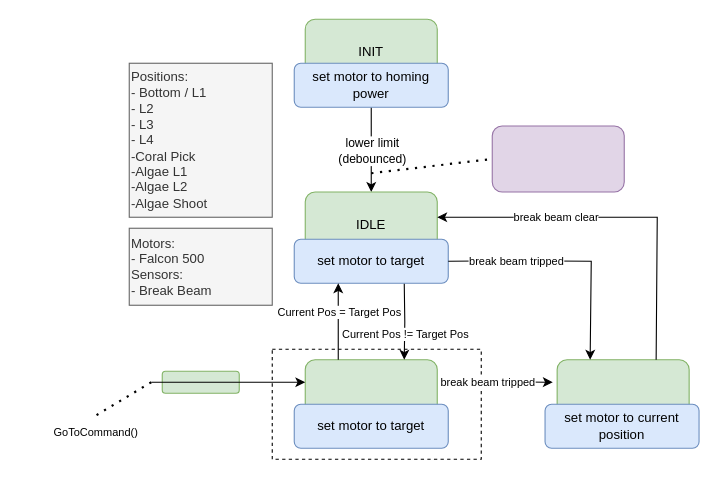
This 718x479 diagram has some shape labels left out. The shapes that lost their labels are listed below. From the top down, each one's box as (x1, y1, x2, y2) in pixels, then its label:
(491, 125, 624, 192): set encoder to 0
(161, 370, 239, 393): INTERRUPT
(304, 359, 437, 426): MOVING
(556, 359, 689, 426): UNSAFE
